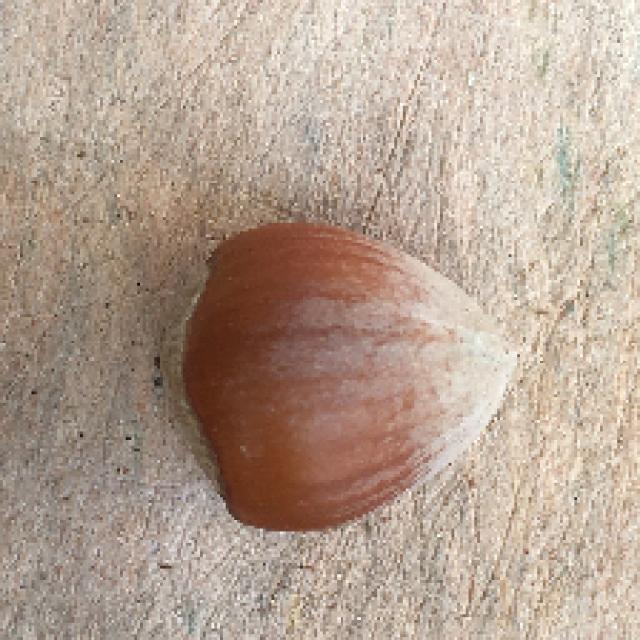qualityHazelnut: (167, 196, 530, 524)
